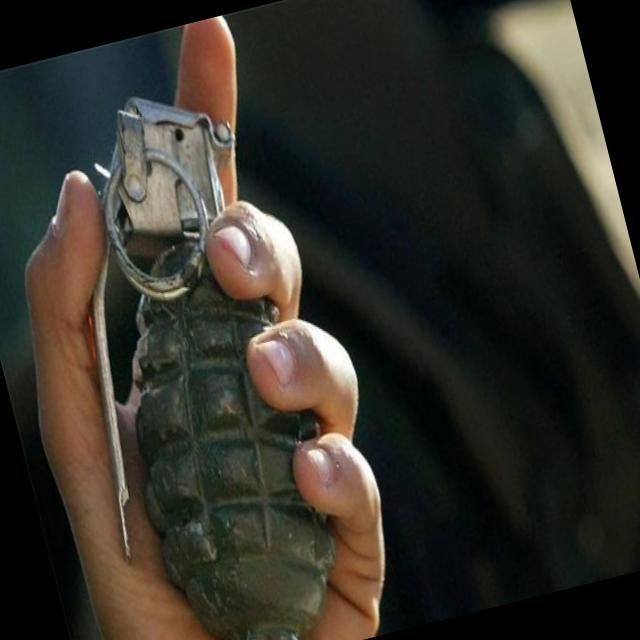grenade: (89, 97, 375, 636)
